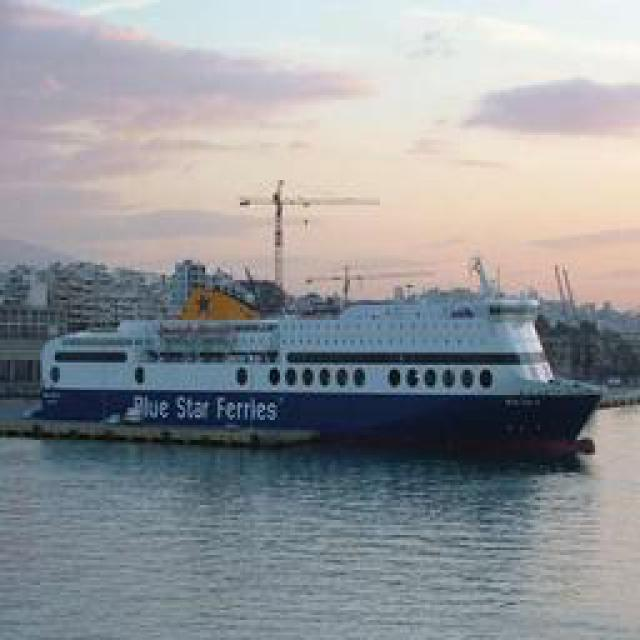Ship: (20, 265, 603, 458)
